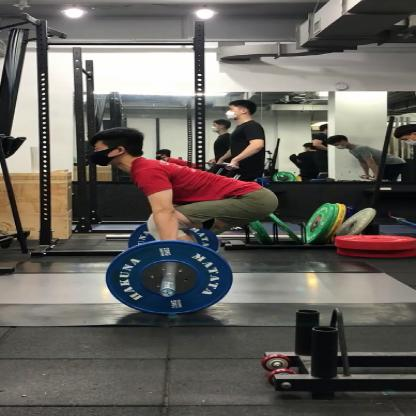Barbell: (100, 236, 240, 320)
